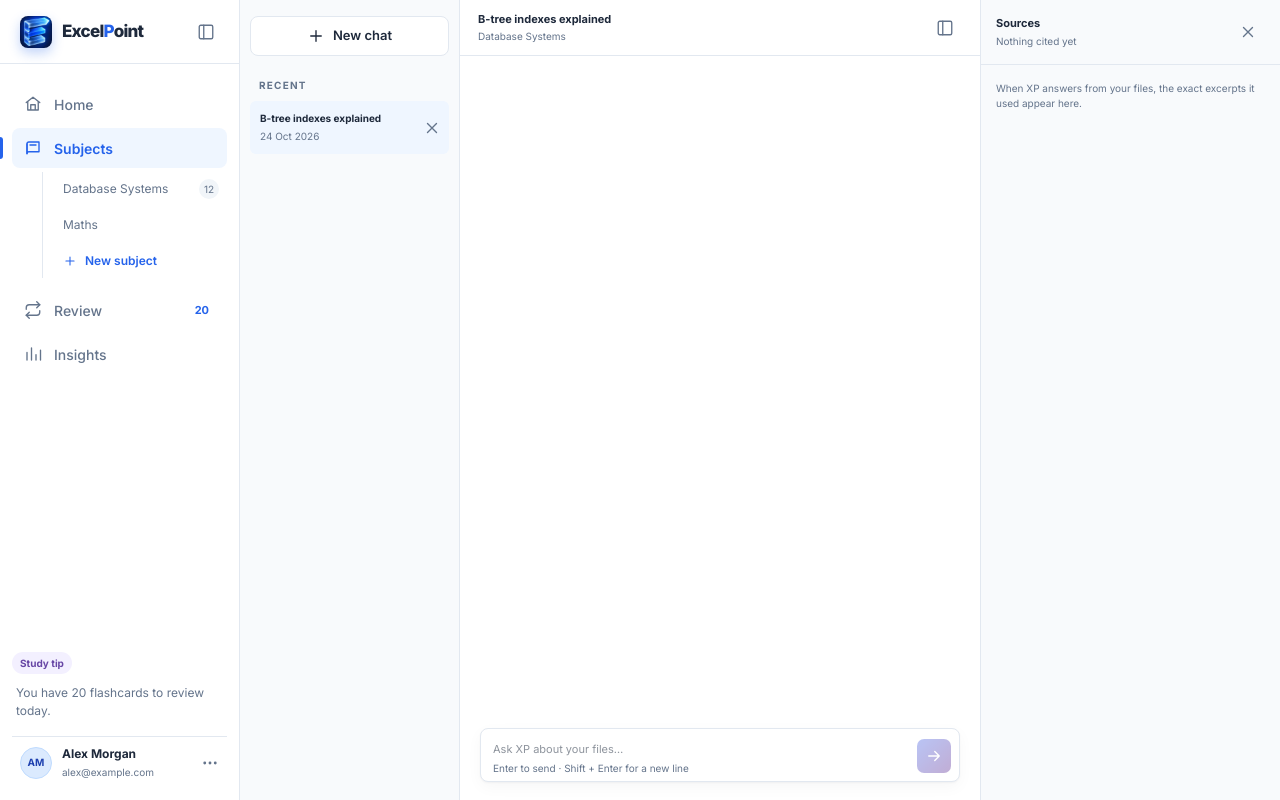
Scenario: XP chat › falls back to a normal request when the stream cannot start
Type "Explain ACID" into the text box labelled "Ask XP". click: (702, 749)
box: 493,740 -> 911,757
Then press Enter
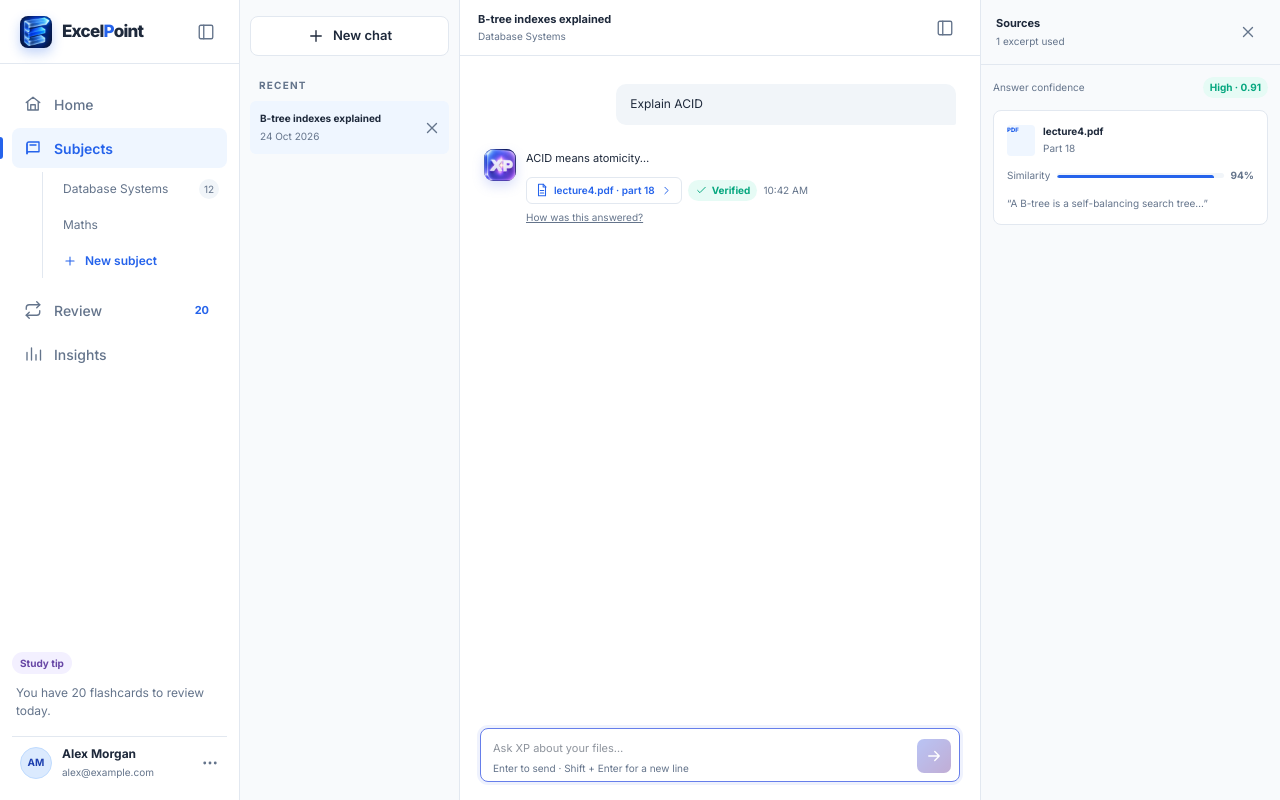
Expected: the text "ACID means atomicity…" is shown, 526,151 -> 649,165
